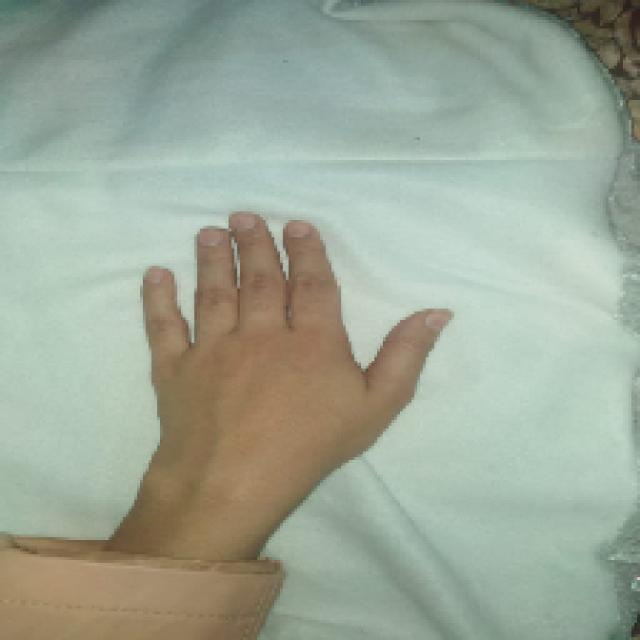Nail: (426, 308, 455, 335), (198, 228, 228, 246), (229, 212, 256, 231), (285, 221, 311, 238), (144, 269, 169, 285)
